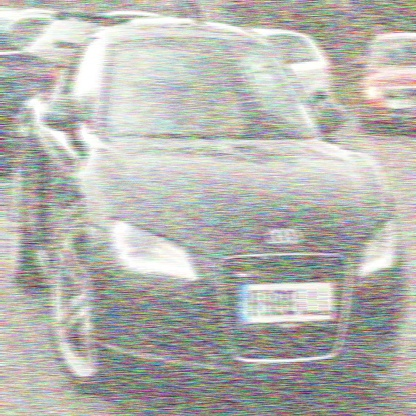Vehicle: (10, 9, 410, 394)
